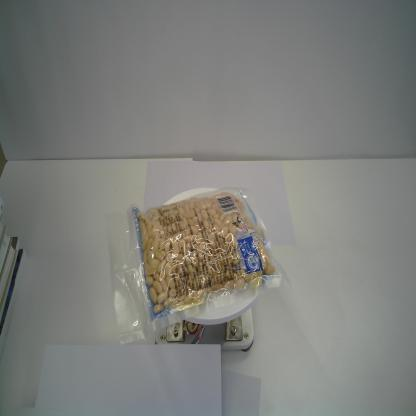Dried Fruit: (105, 184, 292, 346)
